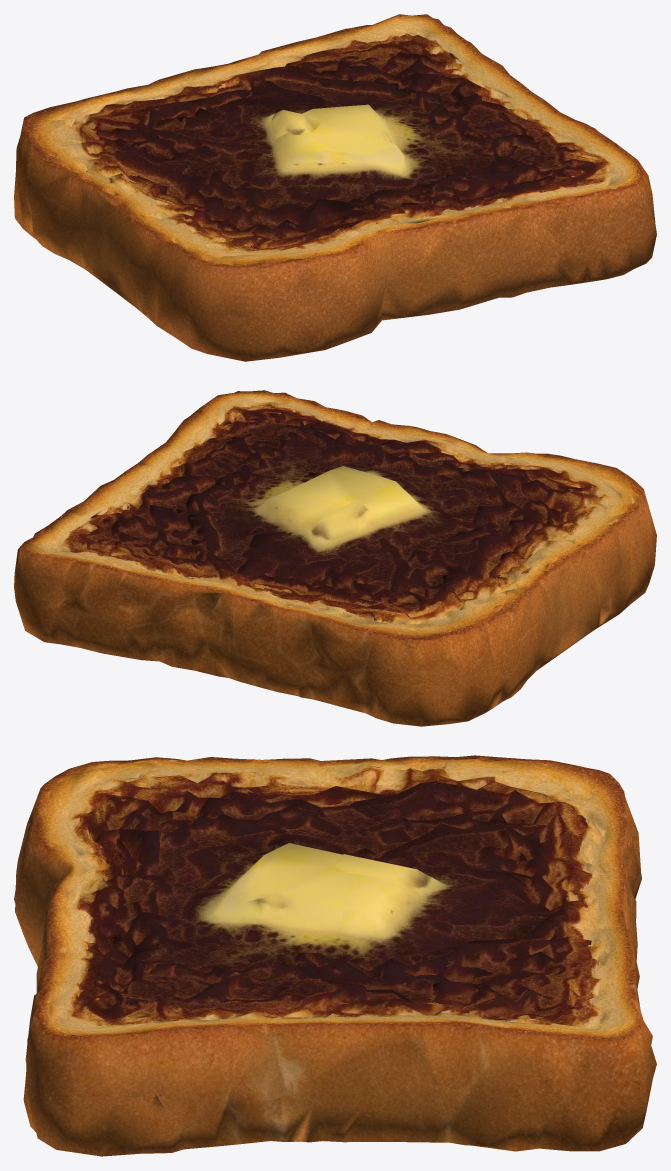
File: toast.glb
3 views of the same model, one above another, from view 1: azimuth 30°, elevation 25°; view 2: azimuth 150°, elevation 25°; view 3: azimuth 270°, elevation 25° (orthographic). The views are drawn at different scales.
Visible parts, largest first — view 1: Model; view 2: Model; view 3: Model.
Part boxes in pixels (box(x1,y1,x2,y2)): Model: box(14, 14, 656, 361); Model: box(14, 390, 656, 726); Model: box(14, 755, 656, 1156).
Bounding box in the file's own units: 1.9 × 0.4419 × 1.75.
1 material, 1 textured.
